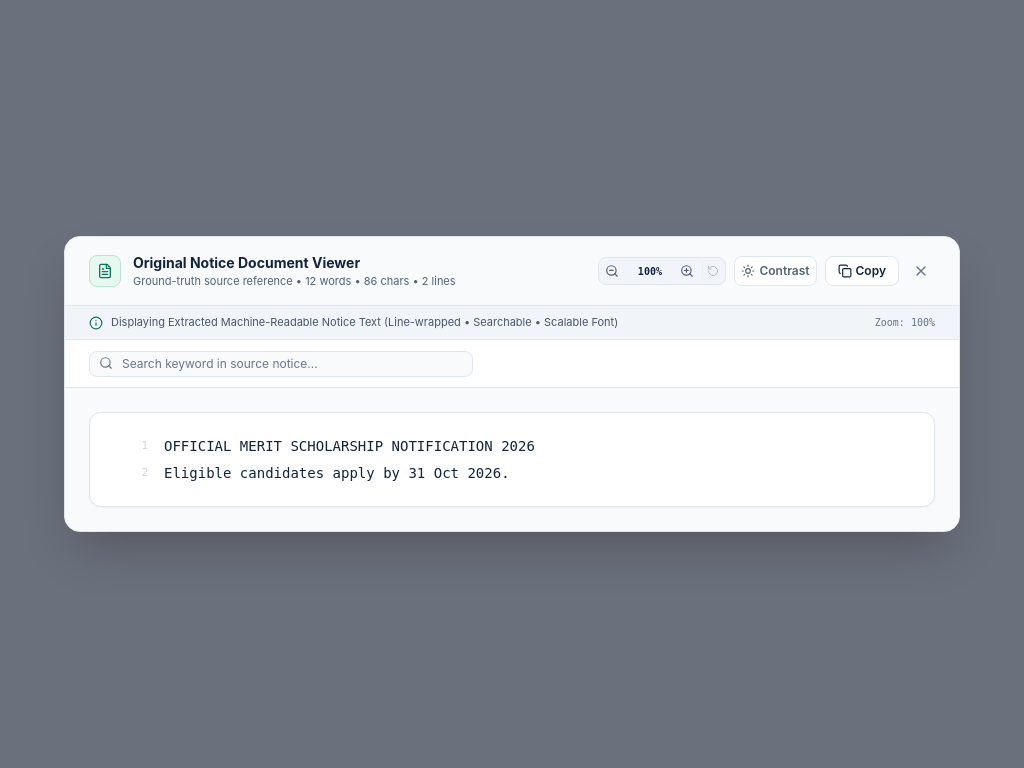
it: OriginalNoticeViewerModal Component › handles zoom in, zoom out, and reset zoom actions correctly
Check: the text with test id "viewer-zoom-display" reads "100%", box [638,266,662,276]
What coordinates should you click on to do the following:
click the button named "Zoom in document"
I would click on:
 (687, 271)
Its box is [676,260,698,282].
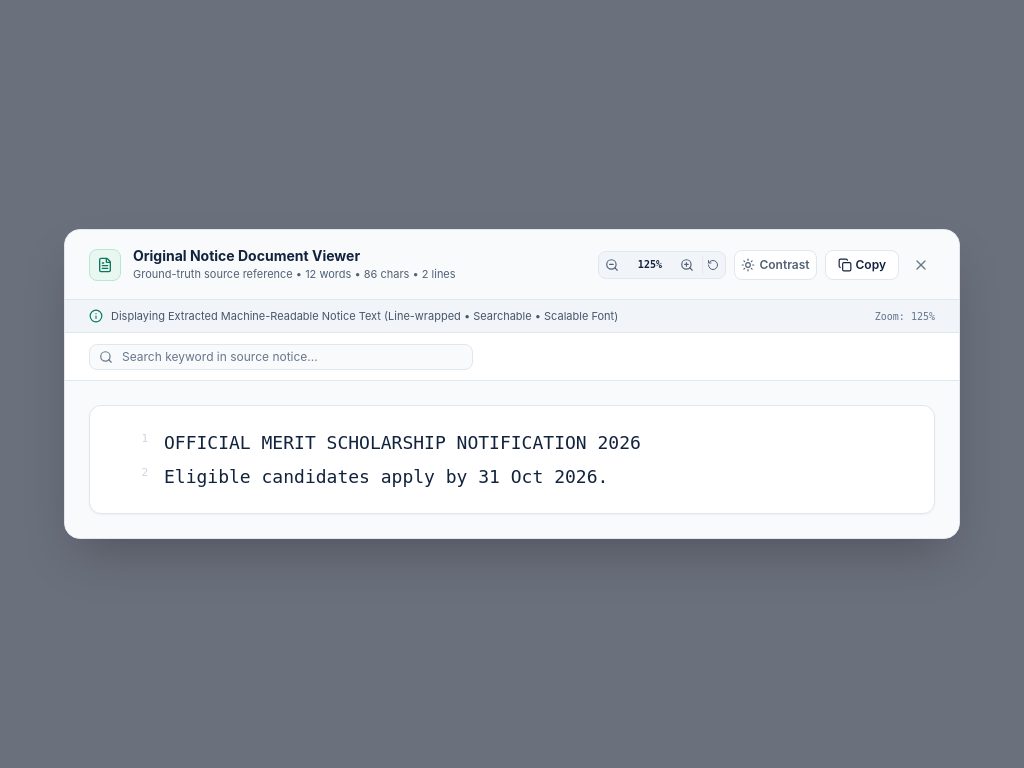
Check: the text with test id "viewer-zoom-display" reads "125%", box [638,259,662,270]
What coordinates should you click on to do the following:
click the button named "Zoom in document"
I would click on:
 (687, 264)
Its box is [676,254,698,276].
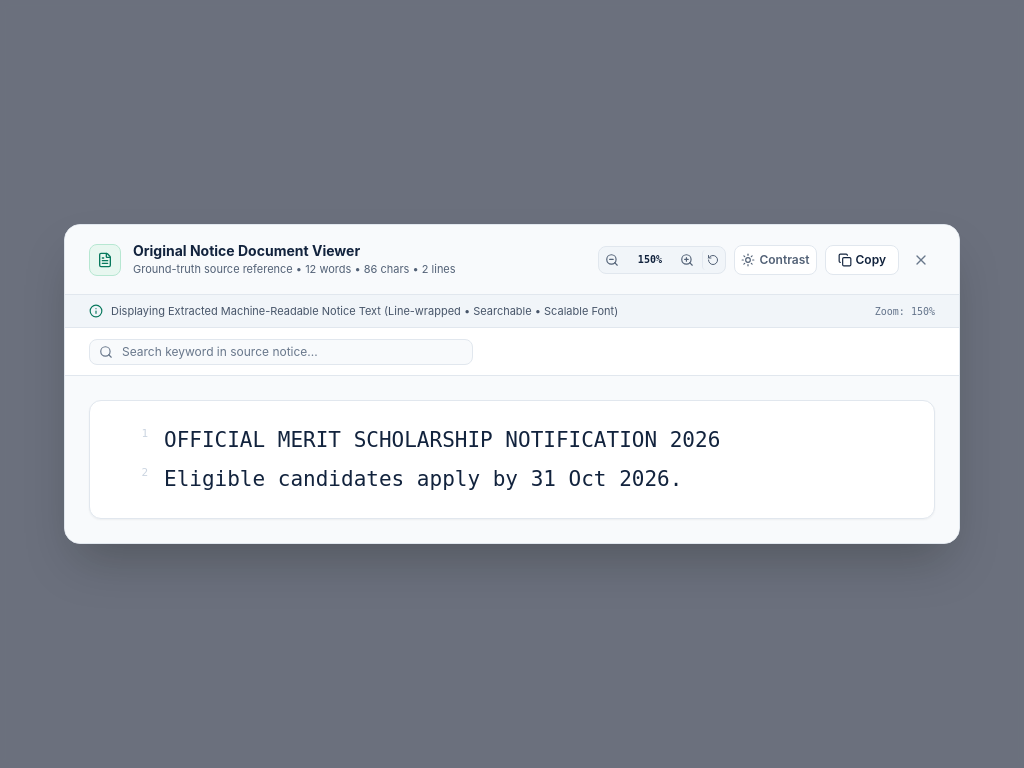
Check: the text with test id "viewer-zoom-display" reads "150%", box [638,254,662,265]
What coordinates should you click on to do the following:
click the button named "Zoom out document"
I would click on:
 (612, 260)
Its box is [601,249,623,271].
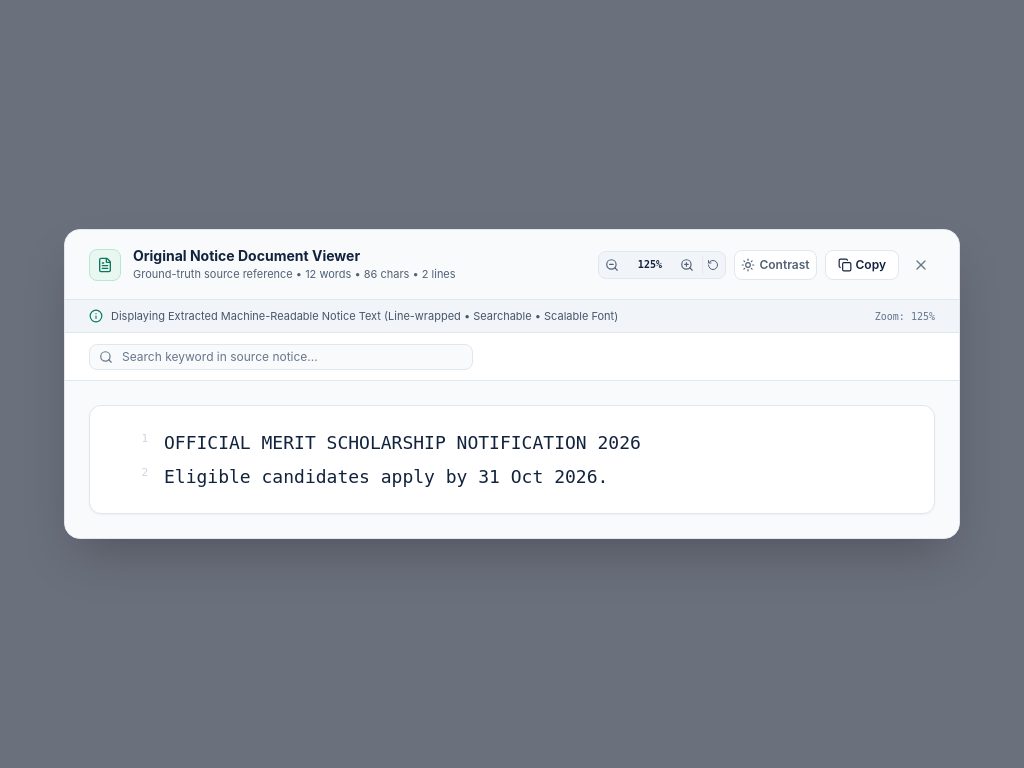
Check: the text with test id "viewer-zoom-display" reads "125%", box [638,259,662,270]
What coordinates should you click on to do the following:
click the button named "Reset zoom to default"
I would click on:
 (713, 264)
Its box is [702,254,723,274].
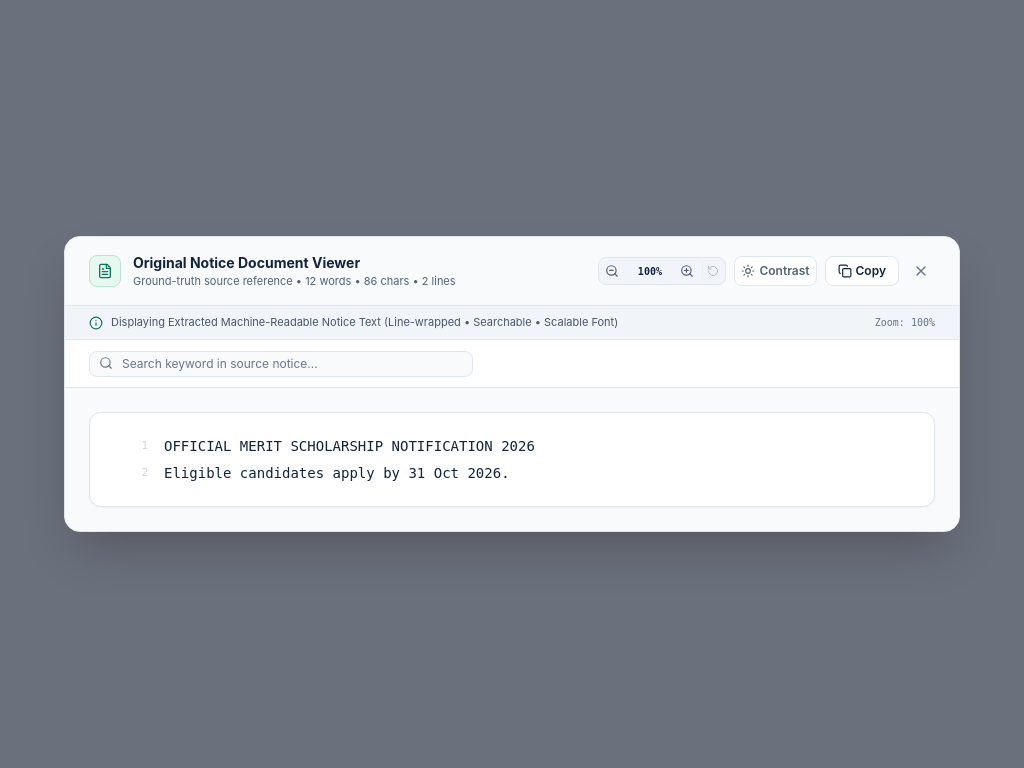
Check: the text with test id "viewer-zoom-display" reads "100%", box [638,266,662,276]
